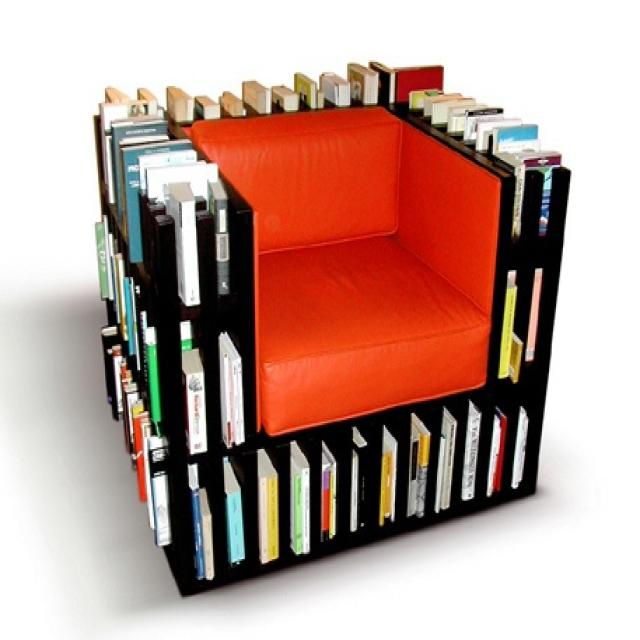chair: (88, 58, 569, 597)
